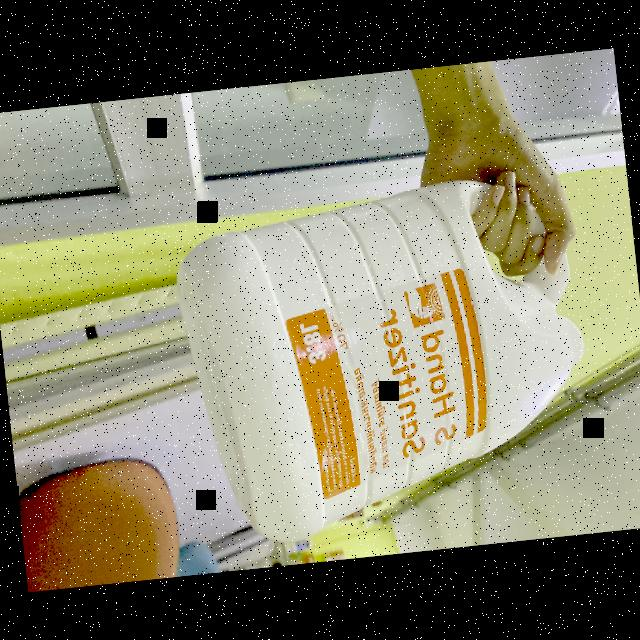chemical_plastic_gallon: (167, 165, 605, 548)
